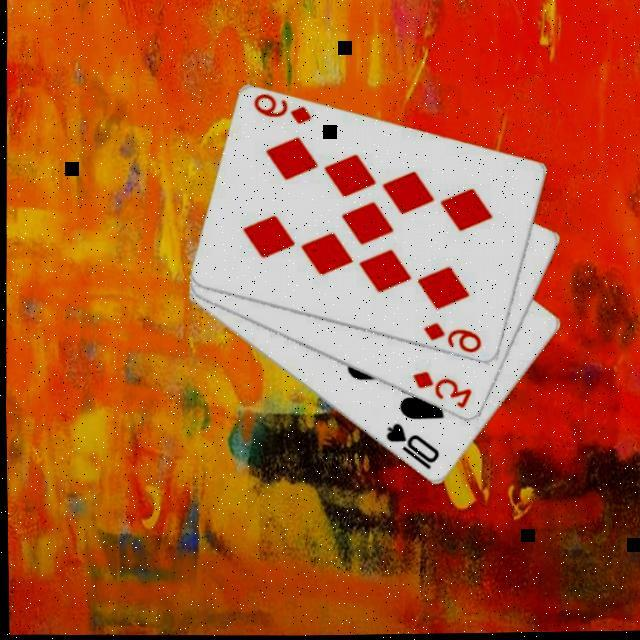10S: (380, 419, 442, 473)
3D: (408, 366, 474, 412)
9D: (250, 90, 316, 128), (420, 318, 484, 356)
